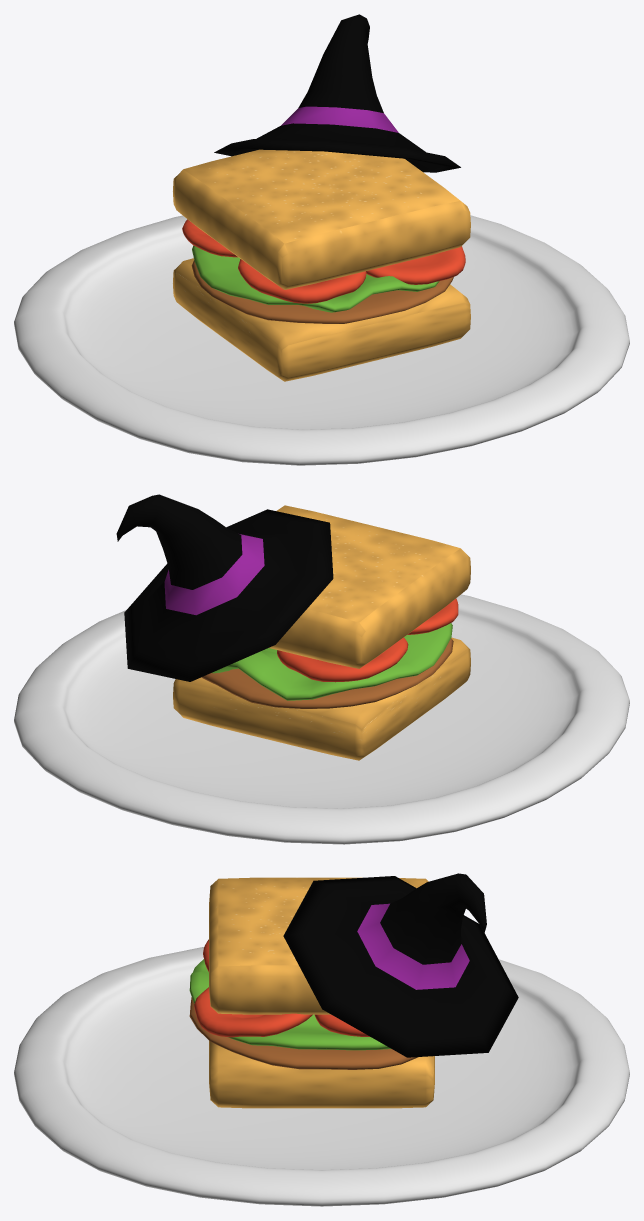
Rendered from sand_witch.glb.
3 views of the same model, one above another, from view 1: azimuth 30°, elevation 25°; view 2: azimuth 150°, elevation 25°; view 3: azimuth 270°, elevation 25° (orthographic). The views are drawn at different scales.
Parts seen in each view (by area): view 1: plate, top_bun, bottom_bun, Hat, meat, lettuce, tomato.003, tomato, tomato.002; view 2: plate, Hat, top_bun, bottom_bun, lettuce, meat, tomato.002, tomato.003; view 3: plate, Hat, top_bun, bottom_bun, meat, lettuce, tomato, tomato.001.
Part boxes in pixels (x1,y1,x2,y2): plate: [14, 215, 629, 465]; top_bun: [173, 149, 470, 289]; bottom_bun: [173, 258, 470, 381]; Hat: [214, 14, 460, 172]; meat: [191, 260, 453, 323]; lettuce: [192, 245, 439, 312]; tomato.003: [238, 259, 366, 303]; tomato: [366, 246, 465, 284]; tomato.002: [182, 219, 237, 257]; plate: [14, 594, 629, 844]; Hat: [116, 494, 333, 681]; top_bun: [269, 505, 470, 668]; bottom_bun: [173, 637, 470, 760]; lettuce: [212, 623, 452, 700]; meat: [201, 638, 453, 708]; tomato.002: [277, 637, 408, 682]; tomato.003: [407, 598, 458, 634]; plate: [14, 947, 629, 1206]; Hat: [283, 873, 518, 1057]; top_bun: [209, 877, 428, 1014]; bottom_bun: [209, 1041, 434, 1108]; meat: [189, 997, 418, 1069]; lettuce: [189, 959, 391, 1050]; tomato: [194, 987, 312, 1037]; tomato.001: [314, 1014, 369, 1036].
Bounding box in the file's own units: 5.42 × 2.6 × 5.42.
6 materials, 1 textured.
